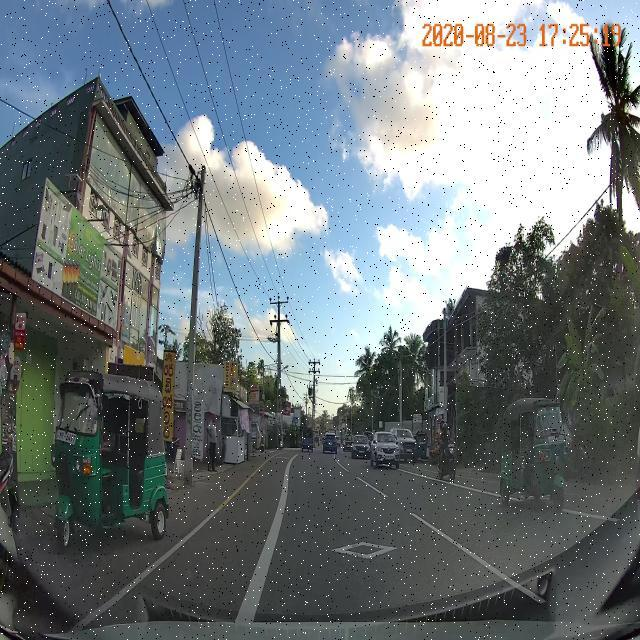diamond: (247, 524, 509, 575)
